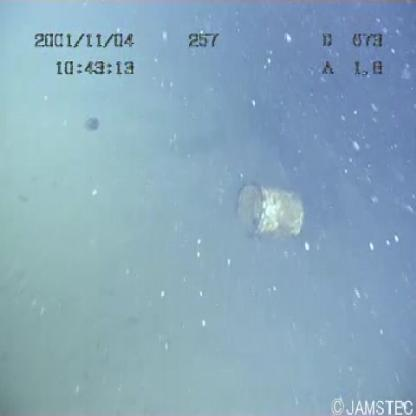Rác: (222, 176, 315, 244)
